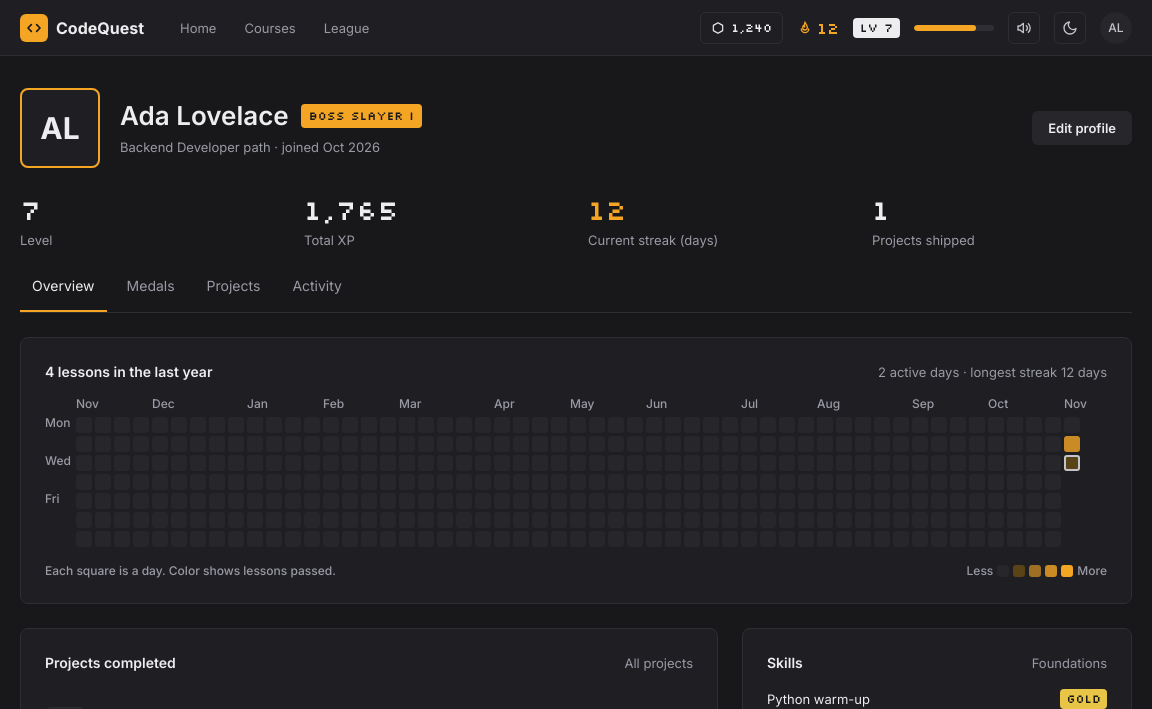
it: ProfilePage › edits the name and title
Click the button "Edit profile" at [1082, 128], box [1032,111,1132,145]
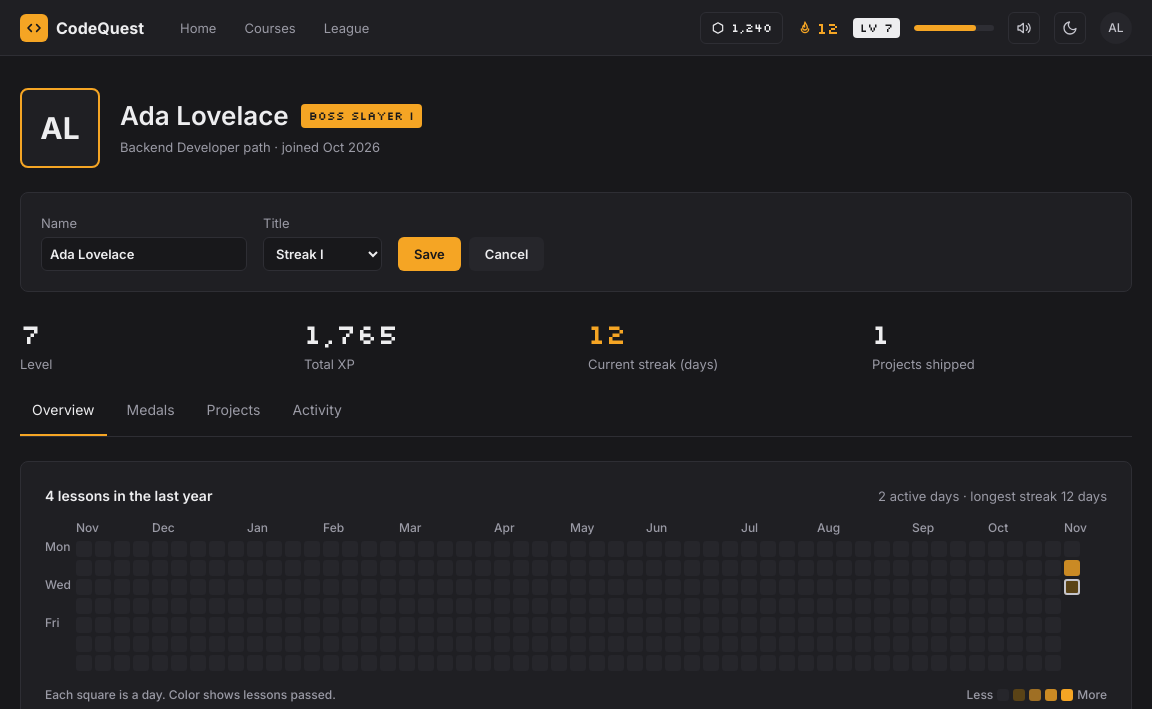
Check: the dropdown labelled "Title" shows "Streak I", box [263,237,382,271]
Replace the text in the field labelled "Name" with "  Ada L " at [144, 254], box [41,237,247,271]
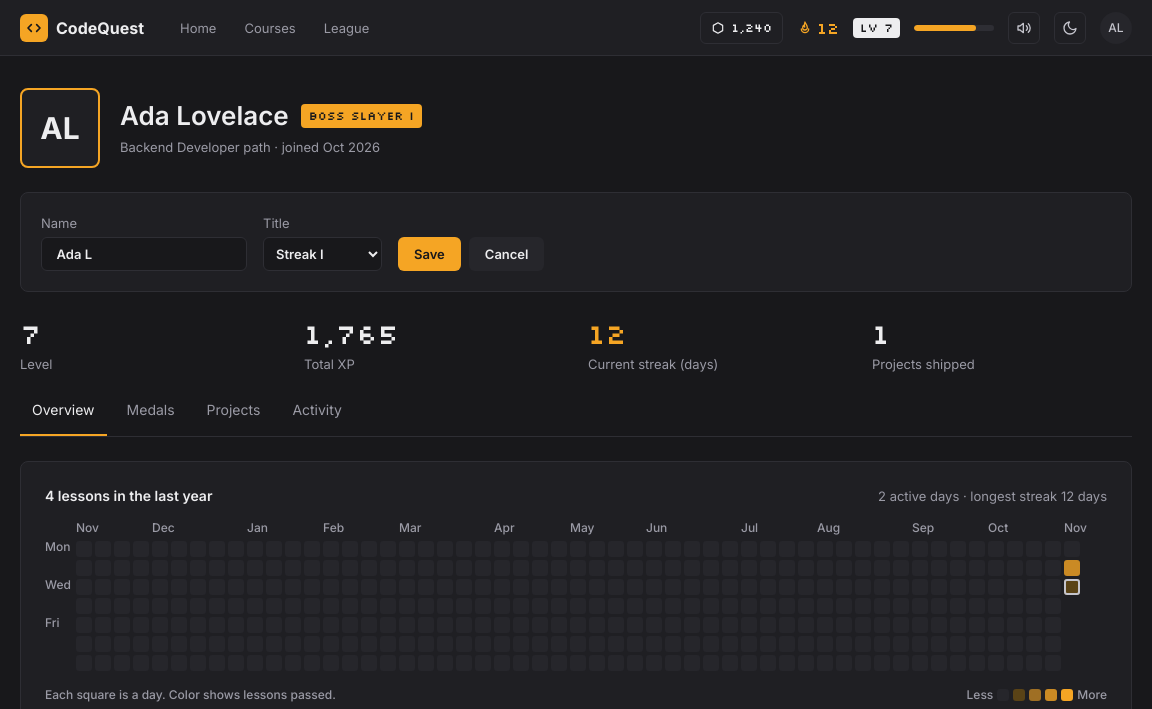
Select "Boss Slayer I" in the dropdown labelled "Title" at [322, 254], box [263,237,382,271]
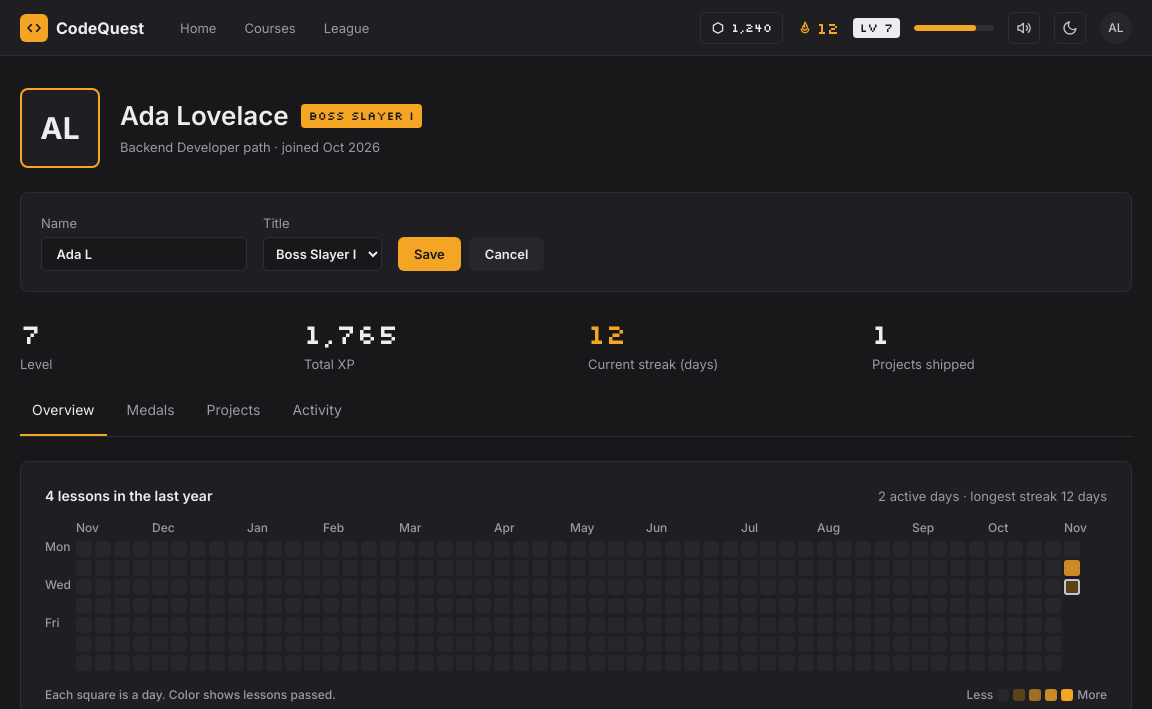
Click the button "Save" at [429, 254], box [398,237,461,271]
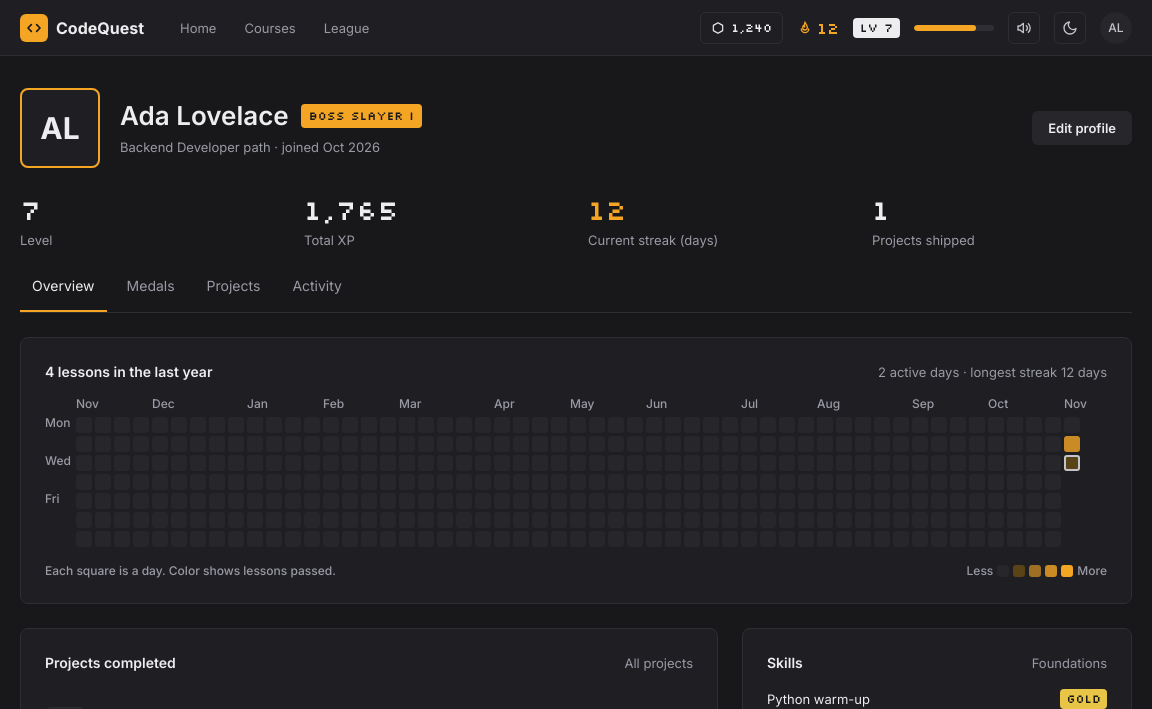
Check: the button "Edit profile" is shown, box [1032,111,1132,145]
